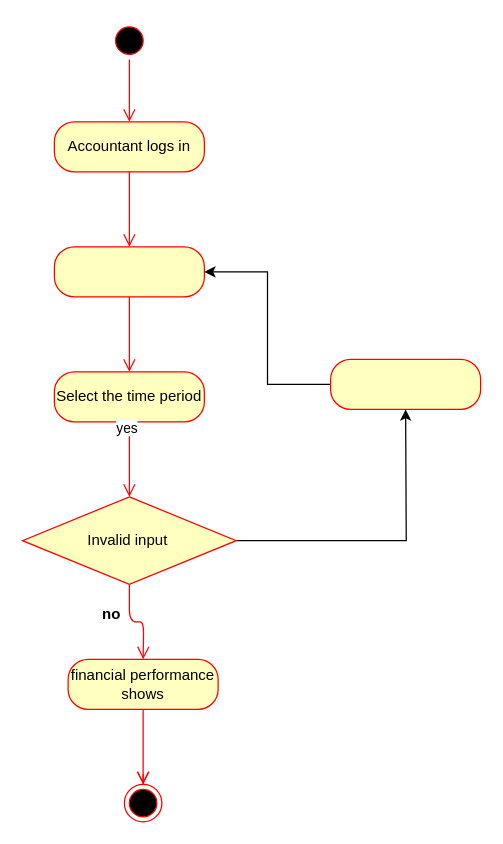
This 503x844 diagram has some shape labels left out. The shapes that lost their labels are listed below. From the top down, each one's centre as x and y in pixels, then its label:
[128,271]: Accesses financial performance
[405,383]: Page refreshes
